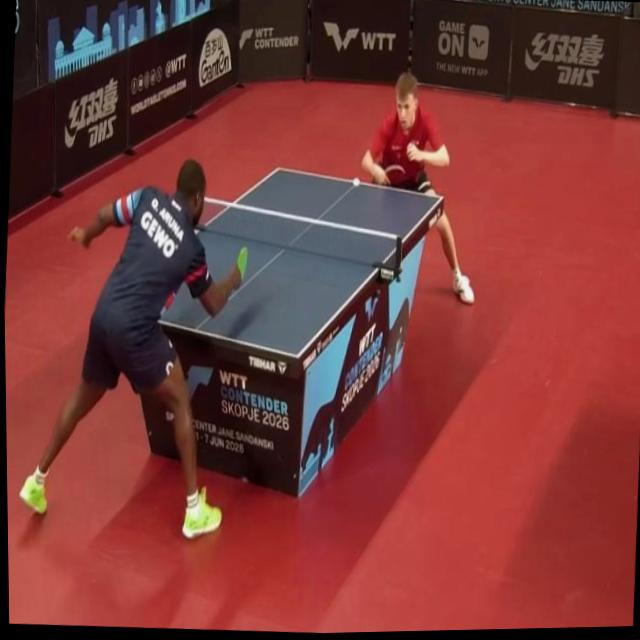TT Net: (149, 189, 408, 276)
TT Racket: (233, 243, 254, 283), (379, 162, 409, 187)
TT Table: (103, 168, 443, 357)
